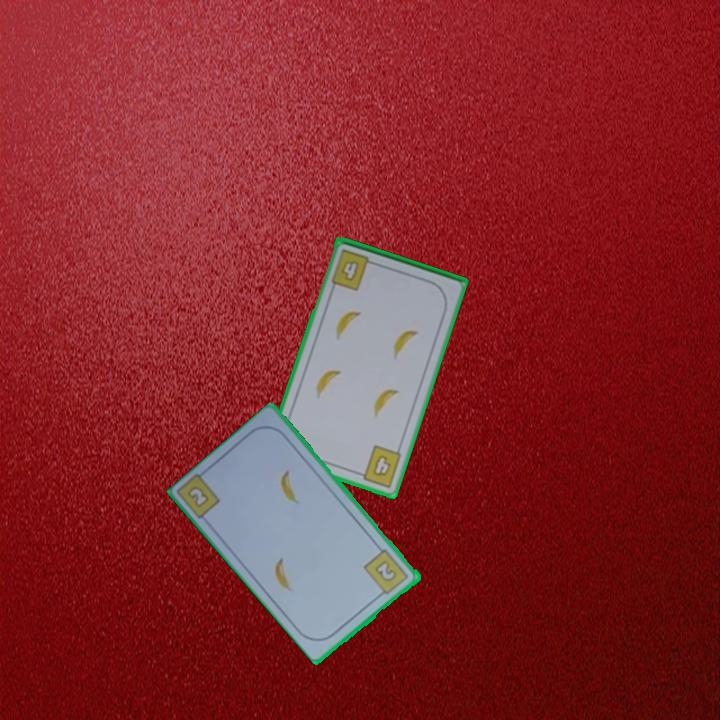2b: (361, 546, 412, 600), (186, 485, 210, 508)
4b: (353, 442, 404, 491), (328, 246, 379, 293)
